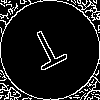T: (25, 25, 73, 80)
